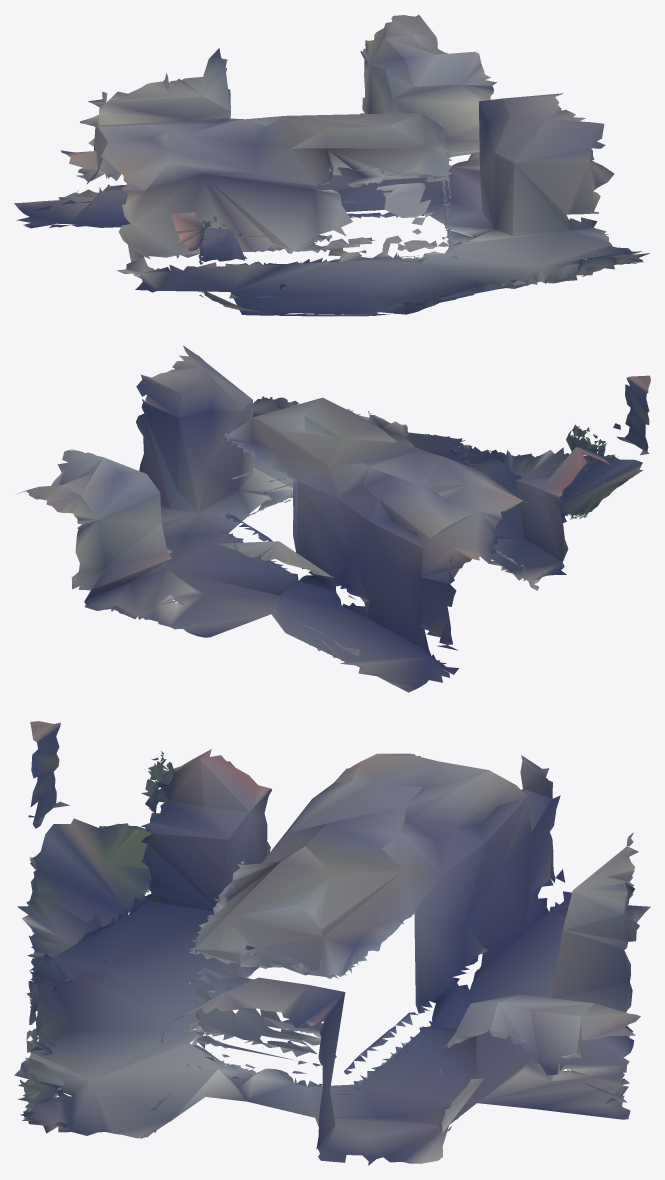
3 renders of one model, top to bottom at view 1: azimuth 30°, elevation 25°; view 2: azimuth 150°, elevation 25°; view 3: azimuth 270°, elevation 25°, orthographic. The views are drawn at different scales.
Bounding box in the file's own units: 109 × 34.9 × 108.
